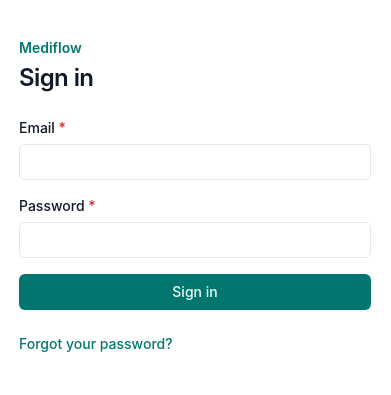
the login page › asks for both fields before sending anything
This screenshot has width=391, height=395.
Expected: the heading "Sign in" is shown, [19,63,93,92]
Step 1. Click the button "Sign in" → (195, 292), box [19,274,371,310]
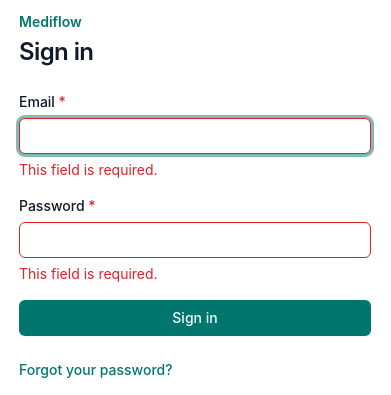
Expected: the text "This field is required." is shown 2 times, [19,161,158,178]; [19,265,158,282]
